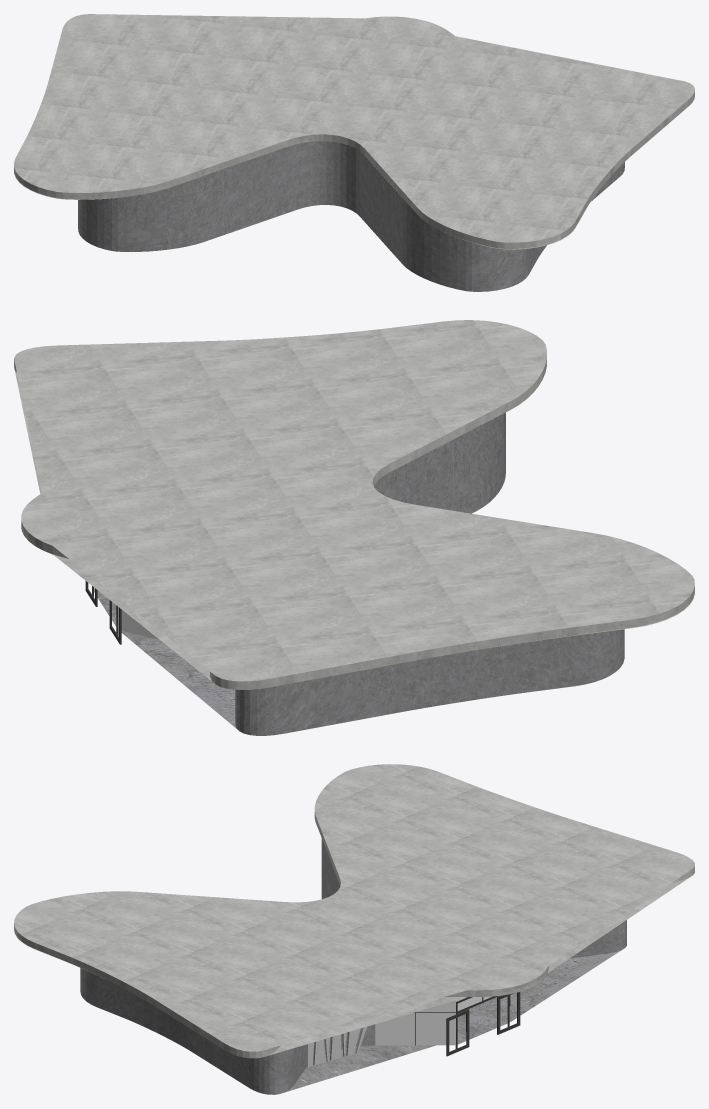
Rendered from ExteriorEscnary.fbx.
3 views of the same model, one above another, from view 1: azimuth 30°, elevation 25°; view 2: azimuth 150°, elevation 25°; view 3: azimuth 270°, elevation 25° (orthographic). The views are drawn at different scales.
Visible parts, largest first — view 1: Plane.001, Plane.003; view 2: Plane.001, Plane.003; view 3: Plane.001, Plane.003, Plane.007, Basic Wall Generic - 200mm [183784].
Part boxes in pixels (x1,y1,x2,y2): Plane.001: (14,14,694,249); Plane.003: (78,141,624,291); Plane.001: (14,320,694,689); Plane.003: (93,412,624,735); Plane.001: (14,764,694,1058); Plane.003: (80,838,626,1094); Plane.007: (375,996,491,1045); Basic Wall Generic - 200mm [183784]: (307,1026,367,1066).
Bounding box in the file's own units: 6996 × 887 × 6993.
